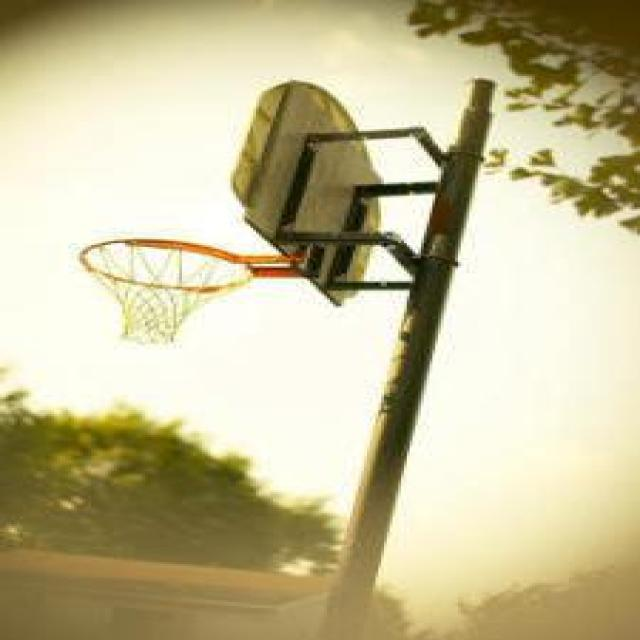hoop: (67, 225, 281, 354)
